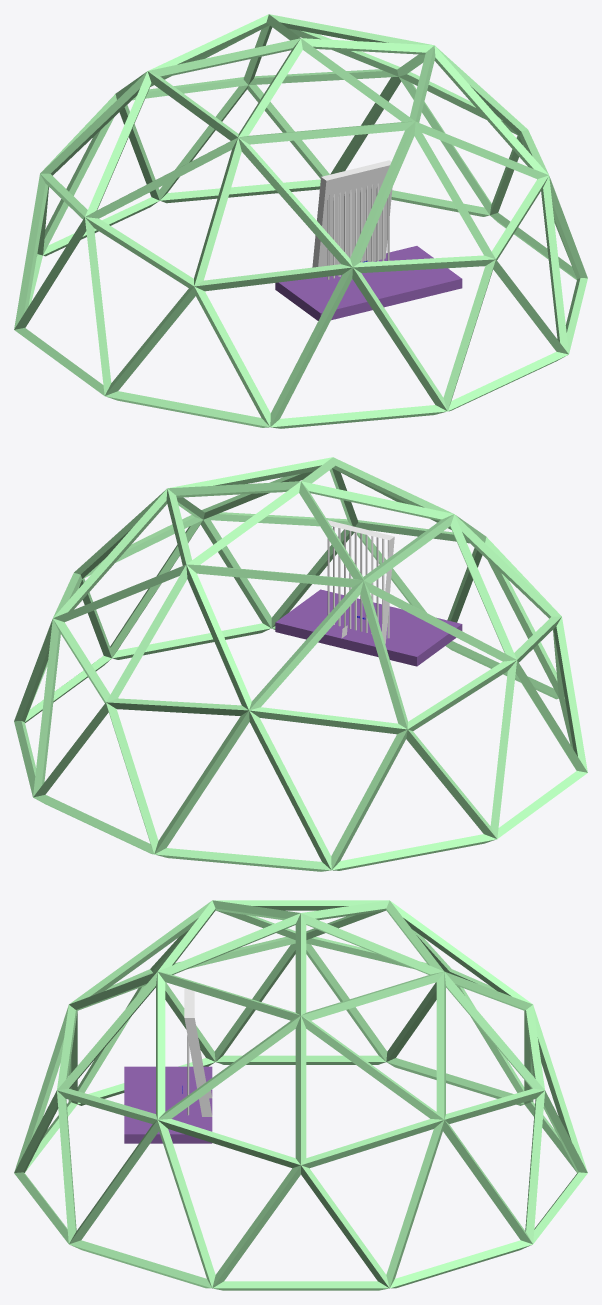
The model's file is SP_index5.glb.
3 views of the same model, one above another, from view 1: azimuth 30°, elevation 25°; view 2: azimuth 150°, elevation 25°; view 3: azimuth 270°, elevation 25° (orthographic). The views are drawn at different scales.
Visible parts, largest first — view 1: Icosphere, Facade, Floor; view 2: Icosphere, Floor, Facade; view 3: Icosphere, Floor, Facade.
Boxes of the visible parts, <box> form: Icosphere: <box>14,14,587,428</box>; Facade: <box>312,160,392,279</box>; Floor: <box>275,246,462,320</box>; Icosphere: <box>14,457,587,871</box>; Floor: <box>275,589,462,666</box>; Facade: <box>327,520,394,643</box>; Icosphere: <box>14,900,587,1290</box>; Floor: <box>124,1066,212,1143</box>; Facade: <box>184,988,212,1116</box>.
Bounding box in the file's own units: 105 × 56.44 × 111.
